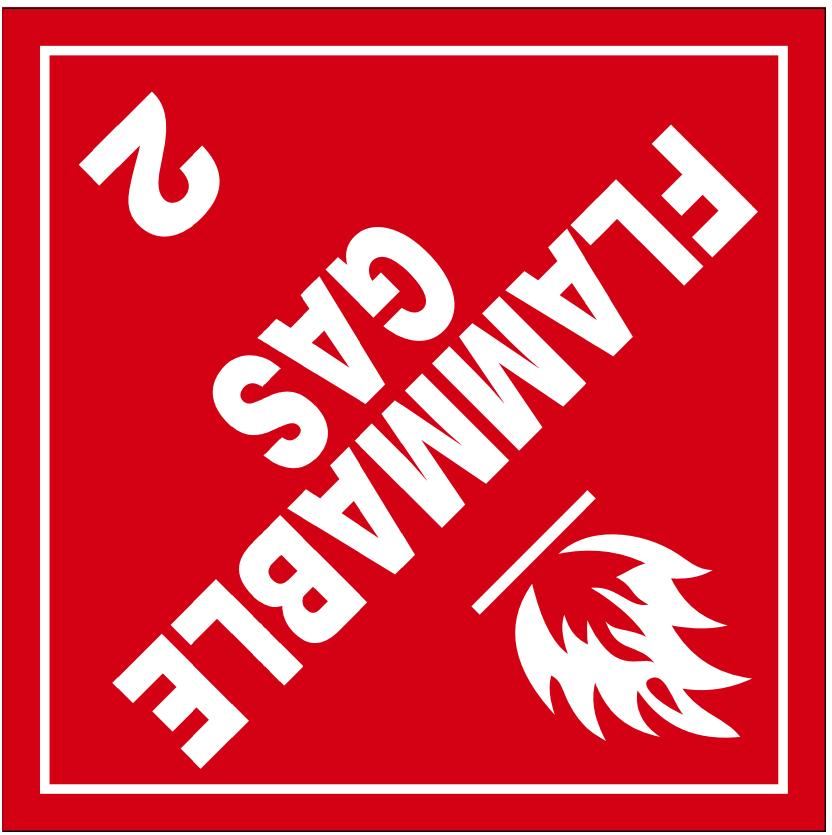flammable: (1, 1, 832, 835)
